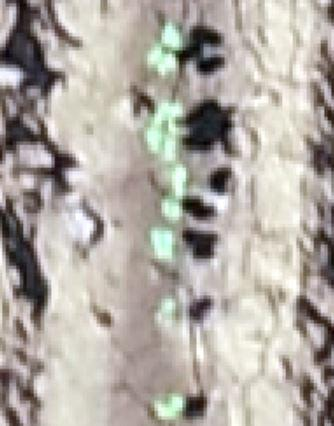cotton: (146, 124, 177, 157), (149, 229, 176, 258), (160, 21, 185, 50), (150, 47, 177, 73), (155, 394, 183, 417), (174, 167, 186, 200), (162, 196, 180, 218), (158, 104, 182, 120), (163, 299, 177, 319)
